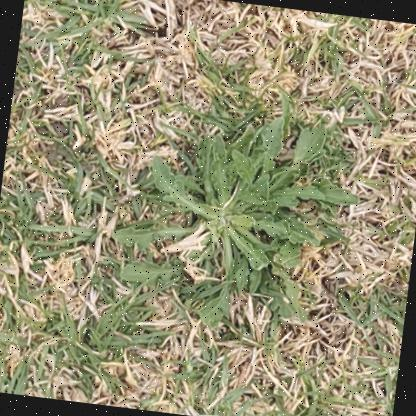Weeds: (101, 99, 369, 350)
